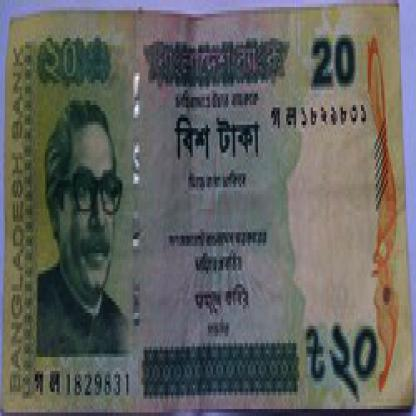Twenty: (172, 107, 264, 170), (308, 326, 379, 405), (306, 28, 364, 107), (40, 31, 121, 87)
